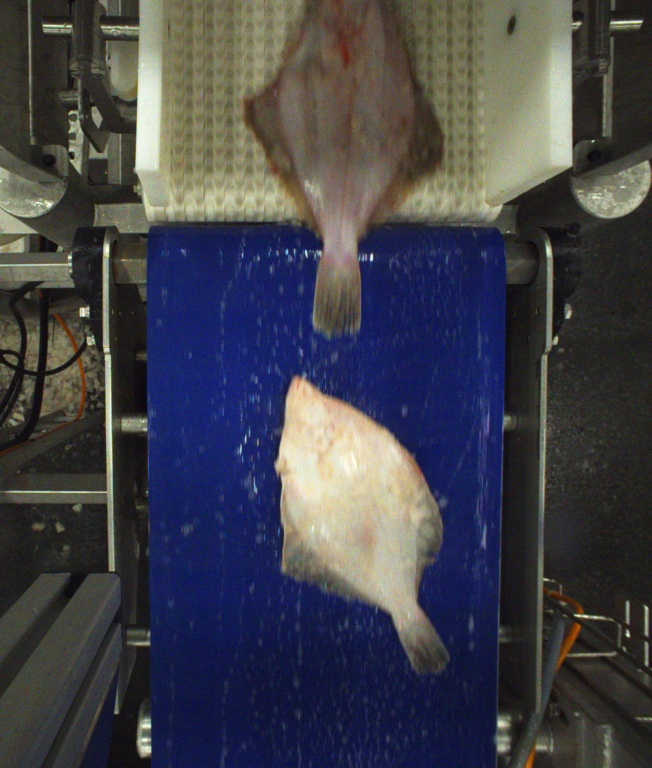PLE: (278, 376, 450, 675)
